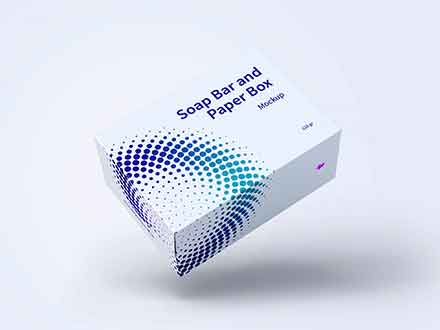Medicine: (89, 50, 354, 273)
